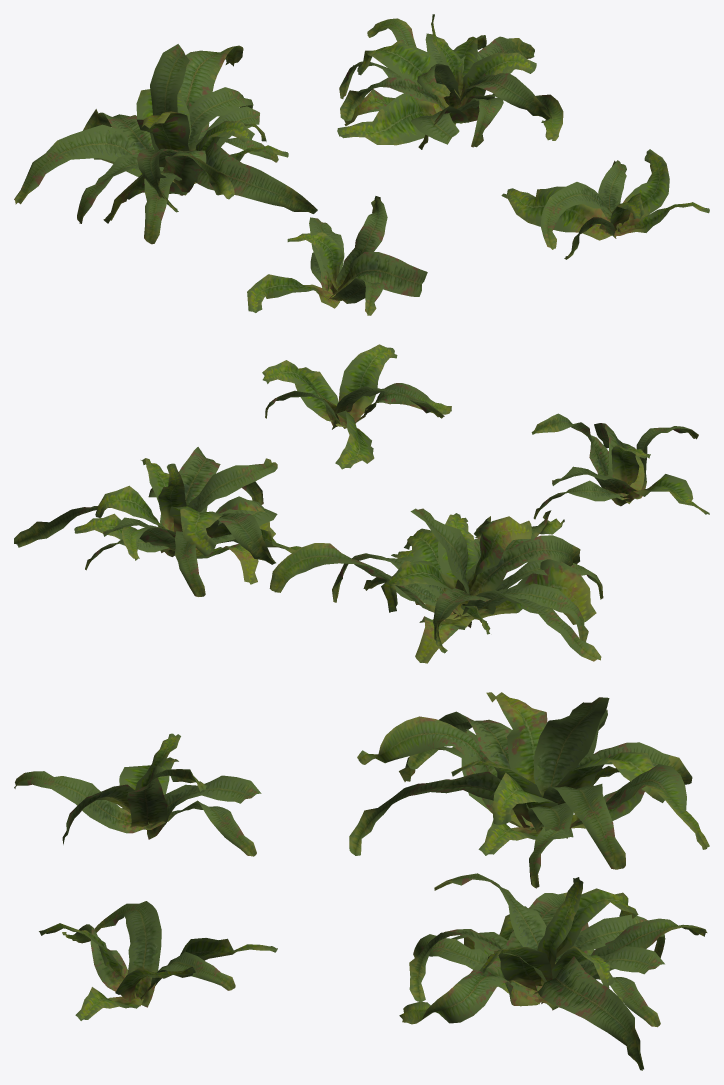
File: fern_02.gltf
3 renders of one model, top to bottom at view 1: azimuth 30°, elevation 25°; view 2: azimuth 150°, elevation 25°; view 3: azimuth 270°, elevation 25°, orthographic. The views are drawn at different scales.
Parts seen in each view (by area): view 1: fern_02_b, fern_02_c, fern_02_d, fern_02_a; view 2: fern_02_b, fern_02_c, fern_02_d, fern_02_a; view 3: fern_02_b, fern_02_c, fern_02_a, fern_02_d.
Boxes of the visible parts, bbox=[...] form: fern_02_b: bbox=[14, 44, 317, 244]; fern_02_c: bbox=[337, 14, 563, 149]; fern_02_d: bbox=[501, 149, 709, 259]; fern_02_a: bbox=[247, 196, 427, 315]; fern_02_b: bbox=[269, 508, 603, 663]; fern_02_c: bbox=[14, 447, 301, 596]; fern_02_d: bbox=[262, 344, 451, 469]; fern_02_a: bbox=[531, 413, 709, 519]; fern_02_b: bbox=[349, 692, 709, 888]; fern_02_c: bbox=[399, 873, 707, 1070]; fern_02_a: bbox=[14, 733, 261, 856]; fern_02_d: bbox=[39, 901, 277, 1020].
Size of the model in its own units: 1.97 by 0.4277 by 1.72.
Materials: 1 (1 with a texture image).
